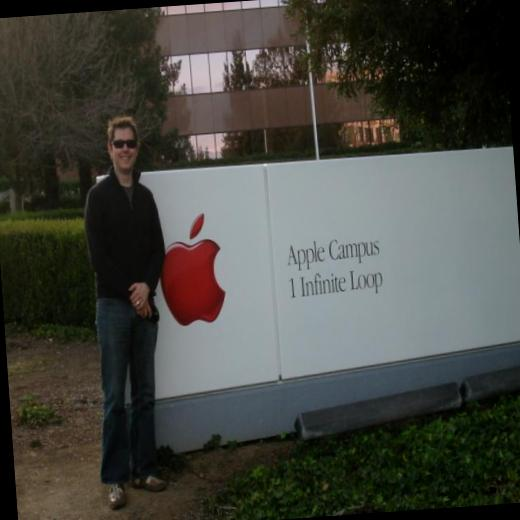Apple: (160, 244, 235, 340)
